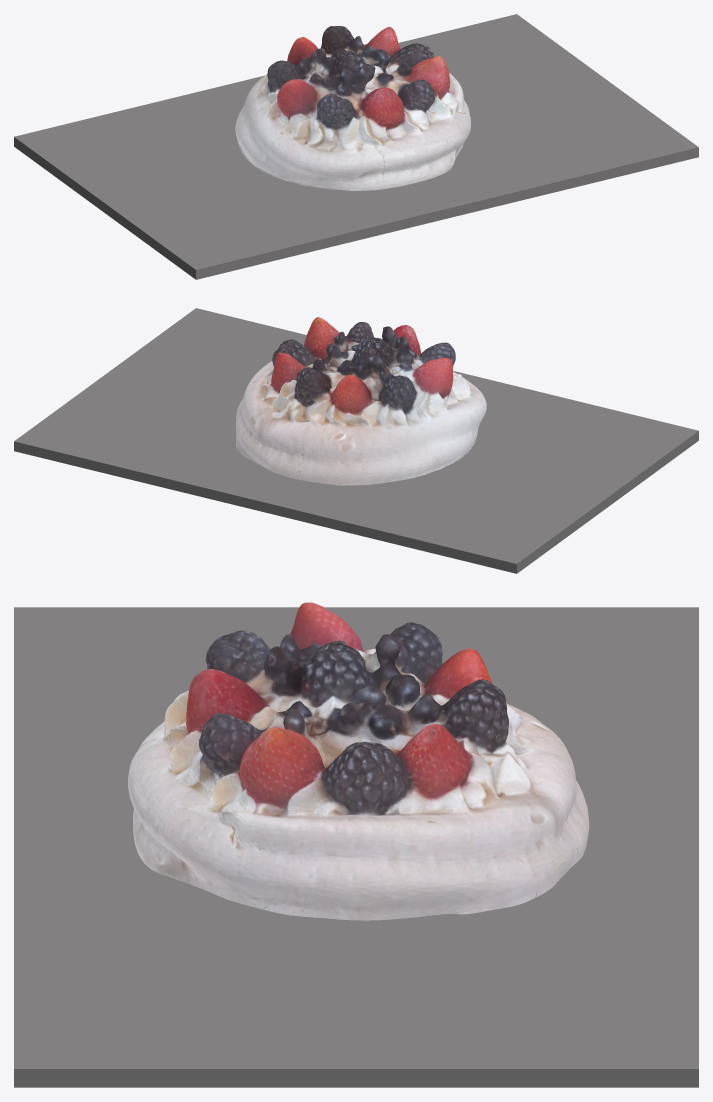
The model's file is keik.sefid.final.glb.
The picture shows the model from 3 angles, top to bottom: view 1: azimuth 30°, elevation 25°; view 2: azimuth 150°, elevation 25°; view 3: azimuth 270°, elevation 25°; orthographic projection. The views are drawn at different scales.
Visible parts, largest first — view 1: Cube, object 1; view 2: Cube, object 1; view 3: Cube, object 1.
Part boxes in pixels (box(x1,y1,x2,y2)): Cube: box(14, 14, 698, 279); object 1: box(235, 26, 470, 190); Cube: box(14, 308, 698, 573); object 1: box(236, 317, 486, 485); Cube: box(14, 607, 698, 1087); object 1: box(127, 602, 589, 920).
Size of the model in its own units: 0.2136 by 0.043 by 0.134.
2 materials, 1 textured.
